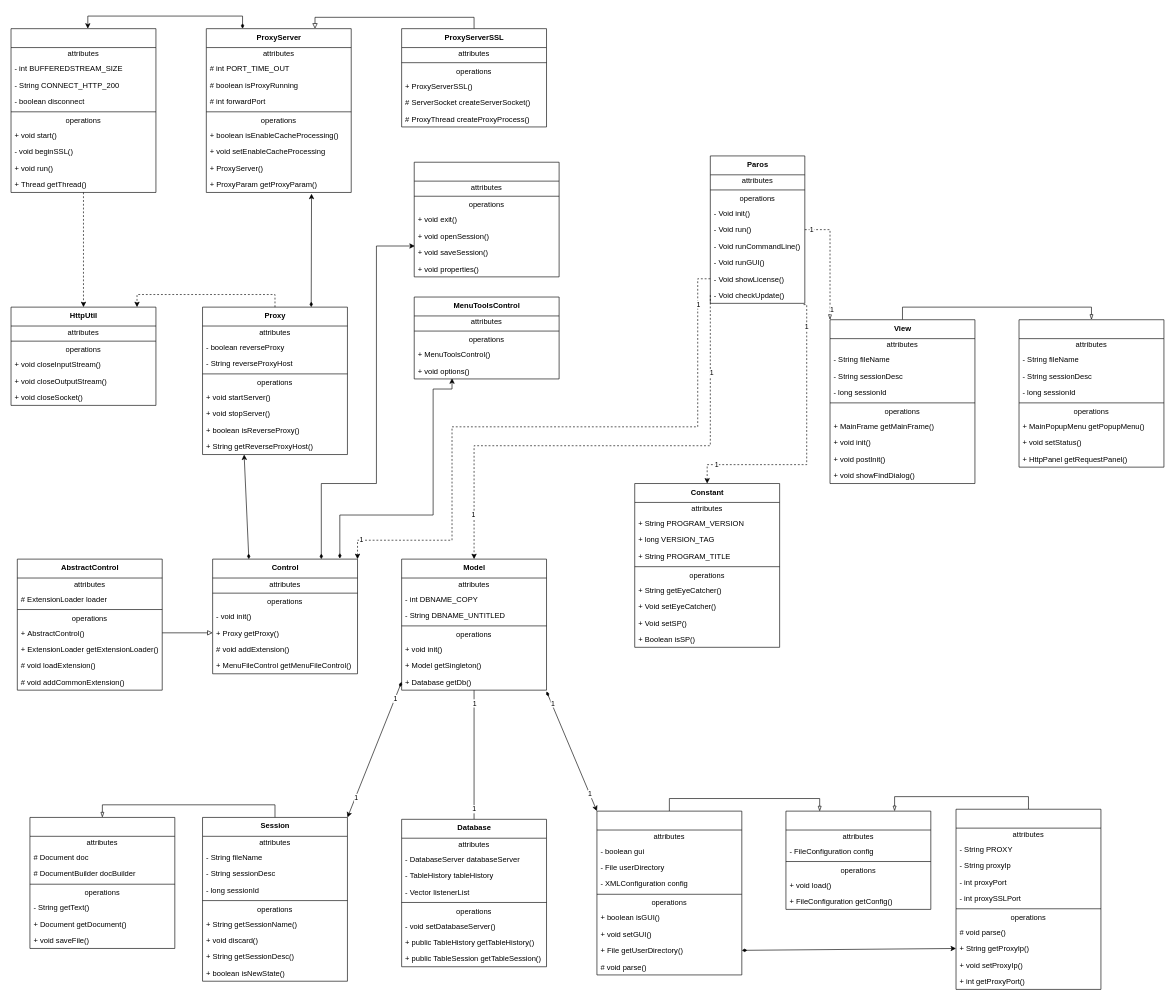
This 1175x1002 diagram has some shape labels left out. Each missing label, with the box of its shape:
AbstractParam: (785, 810, 931, 909)
FileXML: (29, 817, 175, 948)
MenuFileControl: (414, 162, 559, 277)
OptionsParam: (596, 810, 742, 975)
ProxyParam: (955, 809, 1101, 989)
ProxyThread: (10, 28, 156, 192)
ViewDelegate: (1018, 319, 1164, 467)
